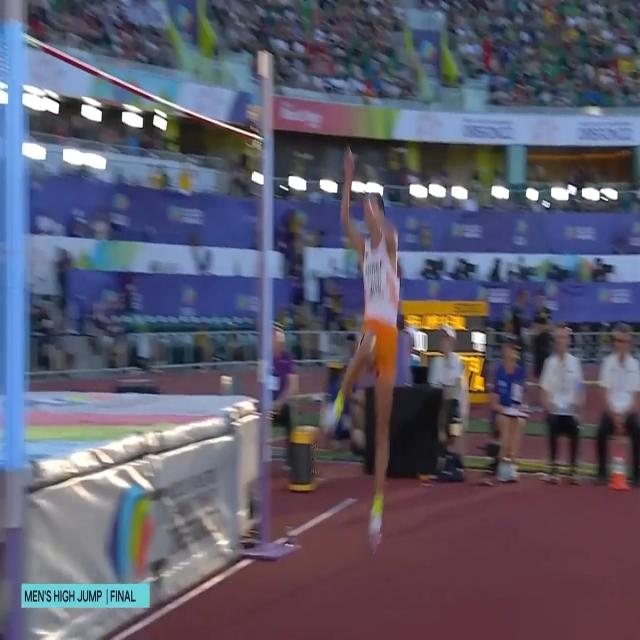jump: (318, 144, 401, 540)
